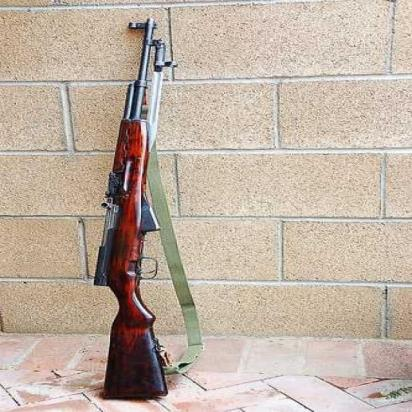Gun: (66, 14, 197, 412)
